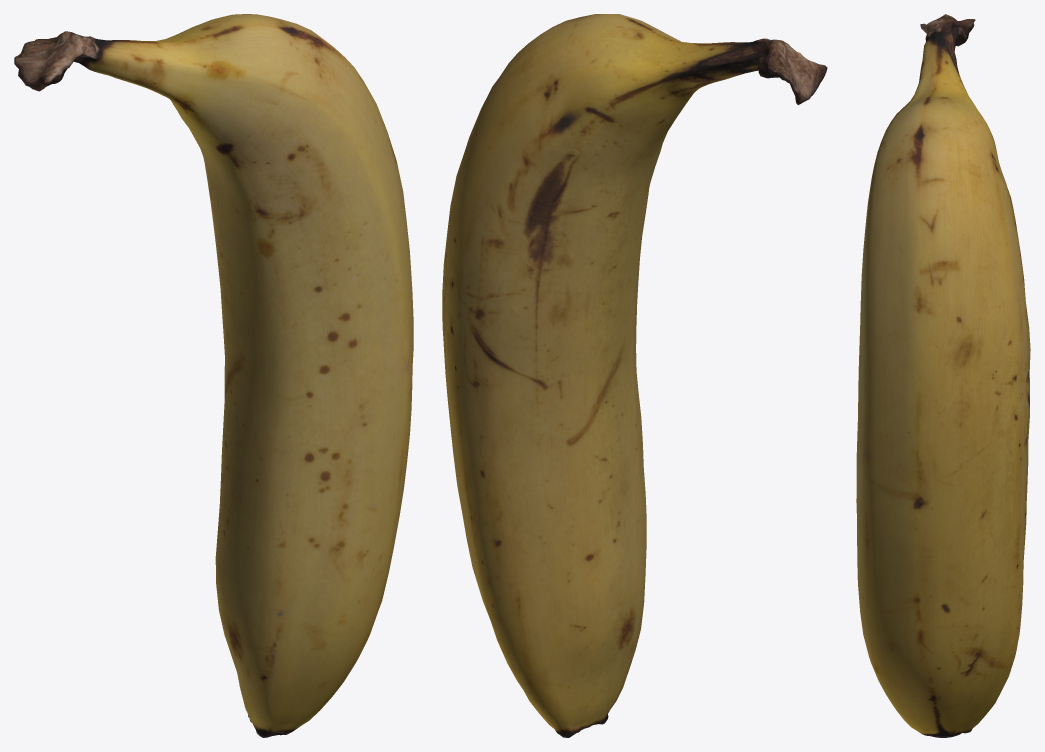
File: banana.fbx
The picture shows the model from 3 angles, left to right: view 1: azimuth 30°, elevation 25°; view 2: azimuth 150°, elevation 25°; view 3: azimuth 270°, elevation 25°; orthographic projection. The views are drawn at different scales.
Visible parts, largest first — view 1: banana; view 2: banana; view 3: banana.
Boxes of the visible parts, x1=… form: banana: x1=14, y1=14, x2=413, y2=737; banana: x1=442, y1=14, x2=827, y2=737; banana: x1=856, y1=14, x2=1030, y2=737.
Size of the model in its own units: 843 by 1628 by 404.
1 material, 1 textured.
